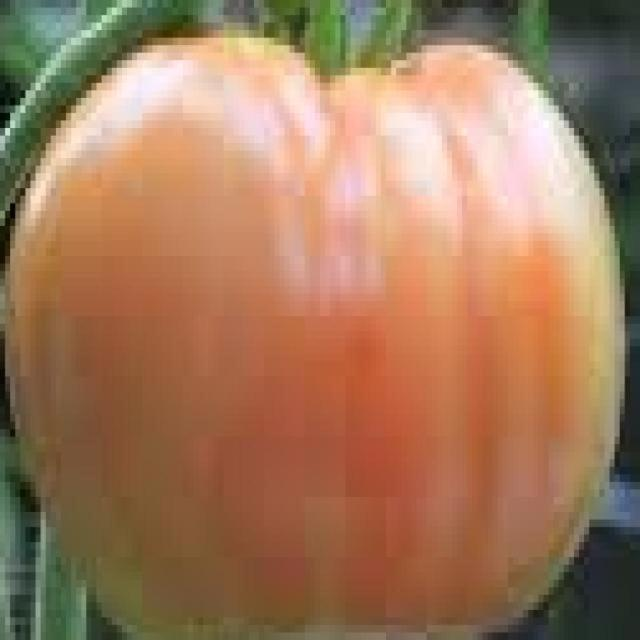Healthy Fruit: (25, 8, 400, 427)
